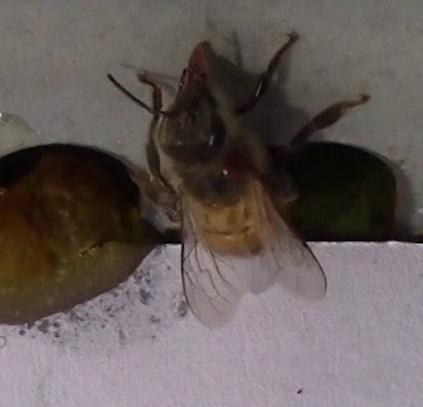Varroa destructor: (218, 148, 257, 181)
